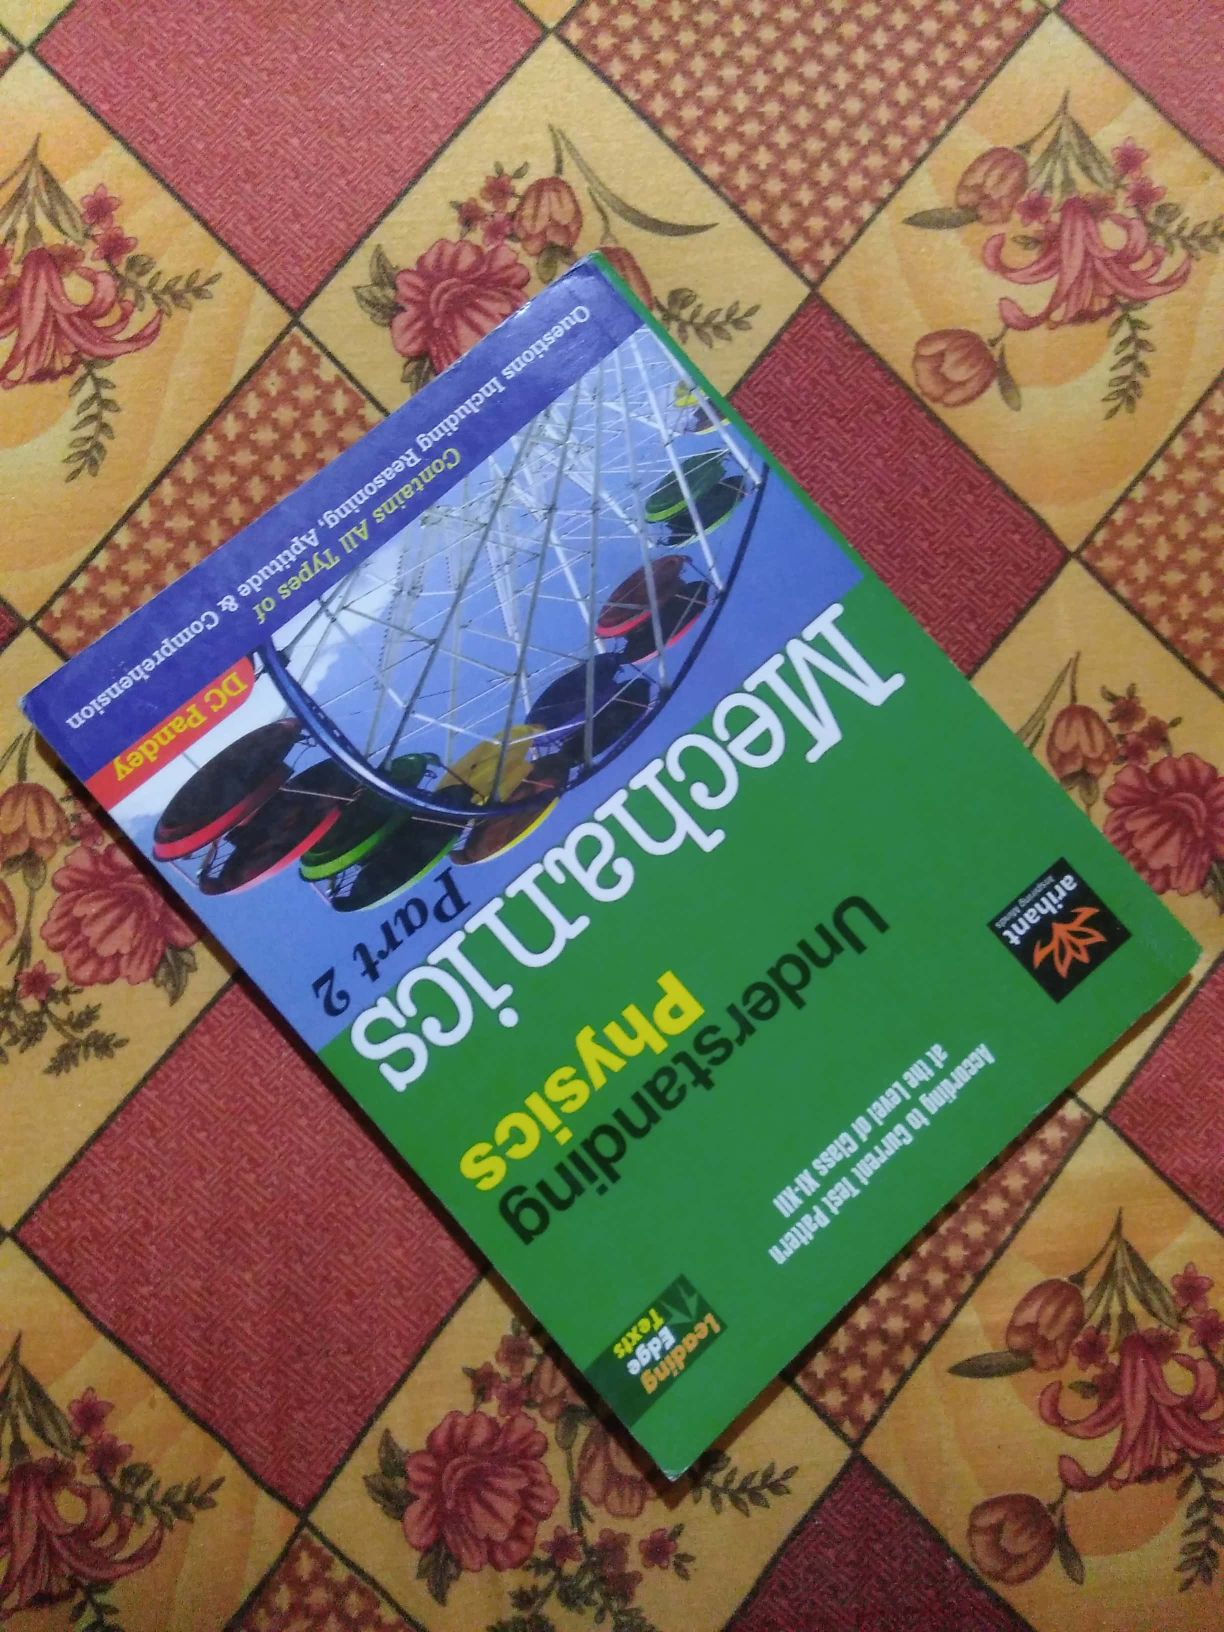mechanics: (75, 276, 1205, 1465)
